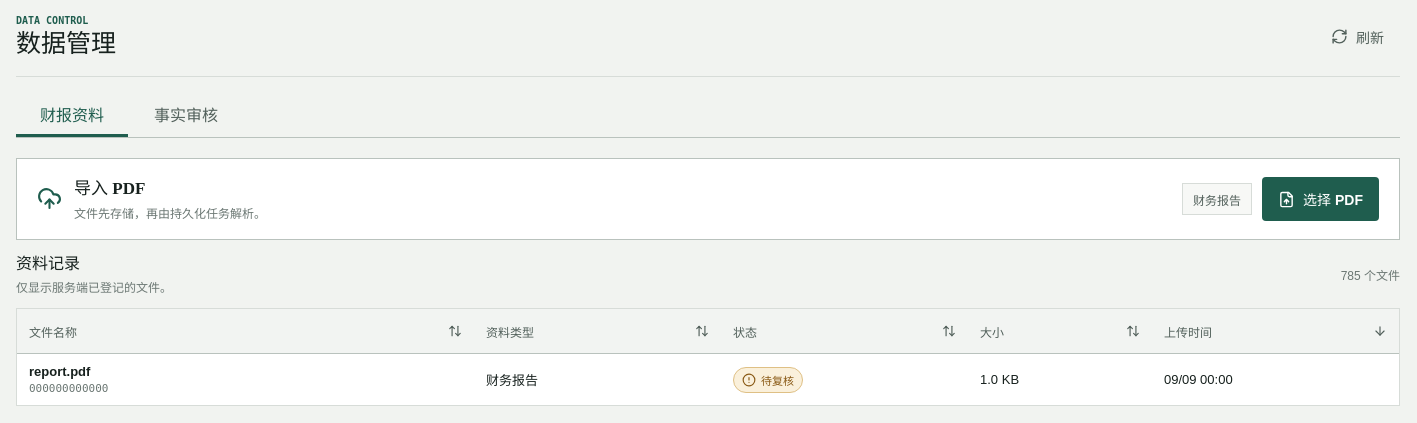
Test case: DataManagementPage collection totals › shows server totals instead of the current page lengths
Expected: the text "785 个文件" is shown, [1341, 266, 1400, 282]
Click the tab "事实审核": (186, 115) [130, 93, 242, 137]
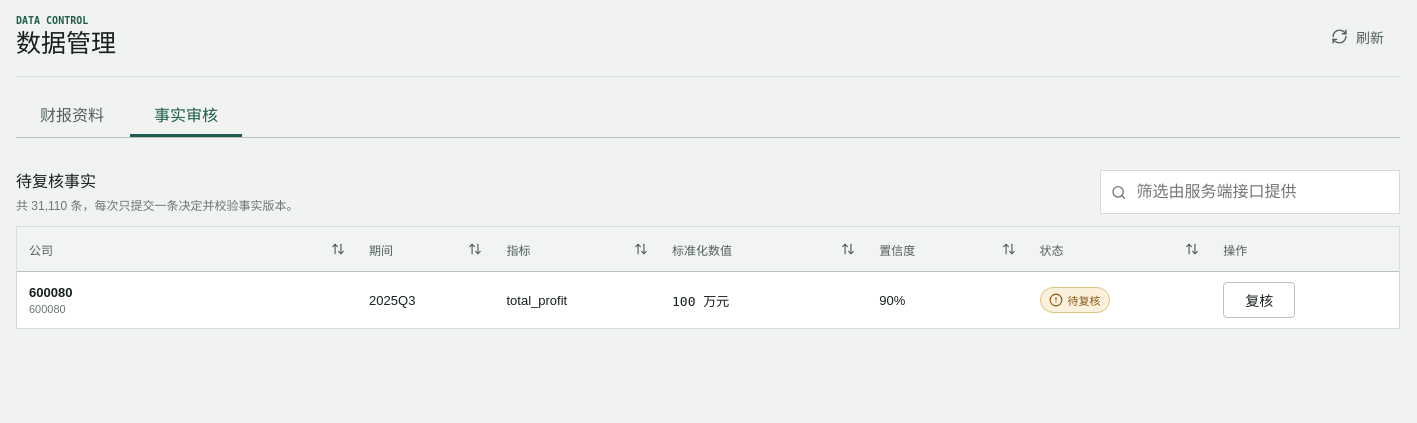
Expected: the text "共 31,110 条，每次只提交一条决定并校验事实版本。" is shown, [16, 196, 298, 213]
